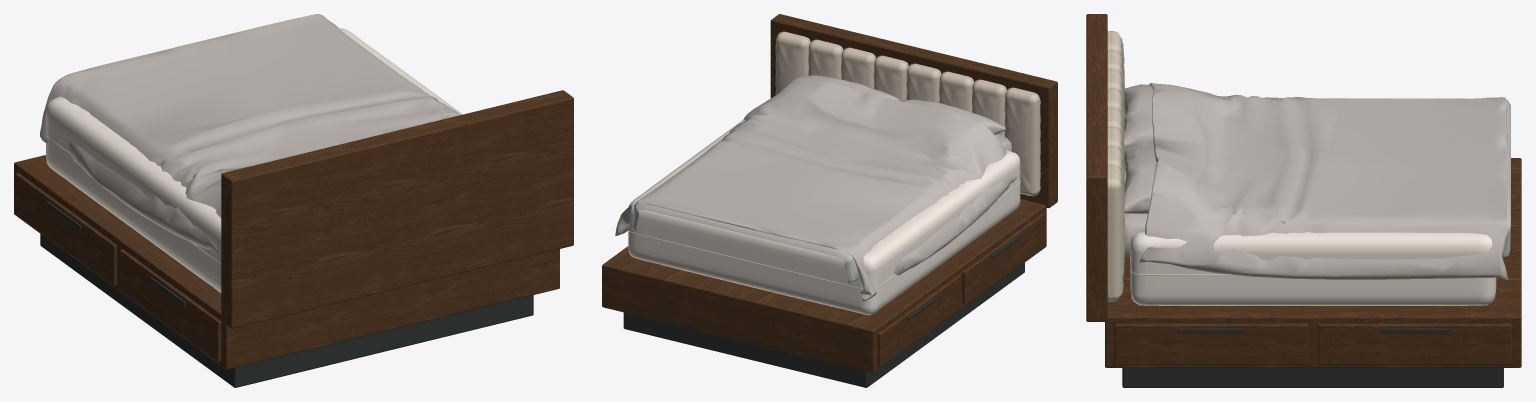
File: residential-drawer-bed.glb
3 renders of one model, left to right at view 1: azimuth 30°, elevation 25°; view 2: azimuth 150°, elevation 25°; view 3: azimuth 270°, elevation 25°, orthographic. The views are drawn at different scales.
Visible parts, largest first — view 1: walnut_surfaces, heritage_linen_surfaces, ivory_surfaces, graphite_surfaces; view 2: heritage_linen_surfaces, walnut_surfaces, ivory_surfaces, cloth_surfaces, graphite_surfaces; view 3: heritage_linen_surfaces, walnut_surfaces, ivory_surfaces, graphite_surfaces, cloth_surfaces.
Part boxes in pixels (bbox=[...]): walnut_surfaces: bbox=[14, 90, 573, 369]; heritage_linen_surfaces: bbox=[40, 14, 460, 252]; ivory_surfaces: bbox=[46, 28, 462, 292]; graphite_surfaces: bbox=[40, 201, 533, 387]; heritage_linen_surfaces: bbox=[615, 75, 1016, 302]; walnut_surfaces: bbox=[602, 14, 1057, 373]; ivory_surfaces: bbox=[628, 119, 1020, 315]; cloth_surfaces: bbox=[775, 31, 1040, 196]; graphite_surfaces: bbox=[623, 235, 1024, 387]; heritage_linen_surfaces: bbox=[1124, 83, 1510, 280]; walnut_surfaces: bbox=[1086, 14, 1521, 367]; ivory_surfaces: bbox=[1130, 98, 1496, 305]; graphite_surfaces: bbox=[1122, 328, 1503, 387]; cloth_surfaces: bbox=[1107, 30, 1124, 301].
Size of the model in its own units: 1.99 by 1.25 by 2.23.
Materials: 5 (2 with a texture image).
